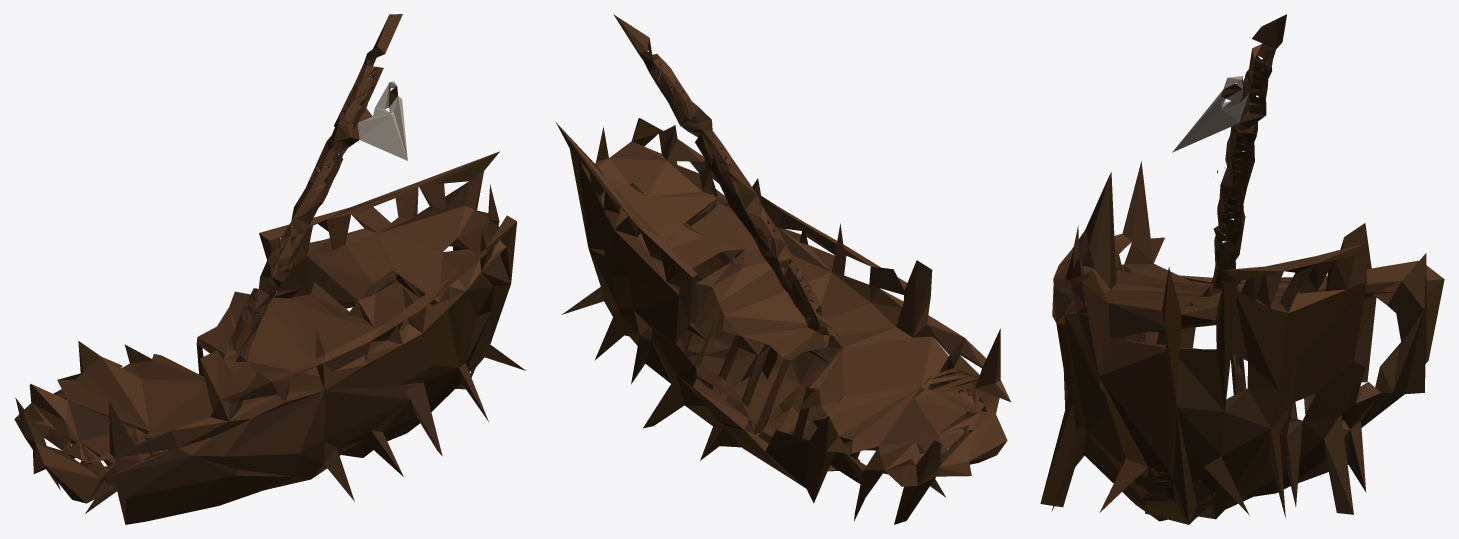
File: wreck.glb
The picture shows the model from 3 angles, left to right: view 1: azimuth 30°, elevation 25°; view 2: azimuth 150°, elevation 25°; view 3: azimuth 270°, elevation 25°; orthographic projection. The views are drawn at different scales.
Visible parts, largest first — view 1: wreck; view 2: wreck; view 3: wreck.
Part boxes in pixels (x1=…): wreck: x1=14, y1=14, x2=525, y2=524; wreck: x1=556, y1=14, x2=1010, y2=524; wreck: x1=1040, y1=14, x2=1444, y2=524.
Bounding box in the file's own units: 13.72 × 12.53 × 7.78.
